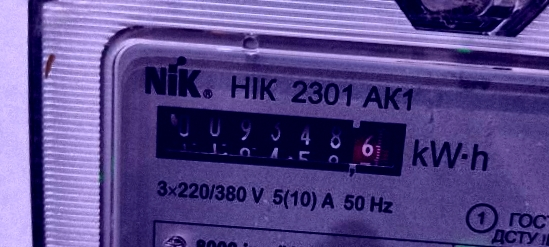0: (206, 113, 222, 137), (176, 110, 190, 137)
3: (266, 116, 282, 143)
4: (296, 118, 312, 146)
6: (357, 130, 376, 158)
8: (326, 122, 343, 151)
9: (235, 115, 252, 142)
screen: (142, 96, 416, 185)
